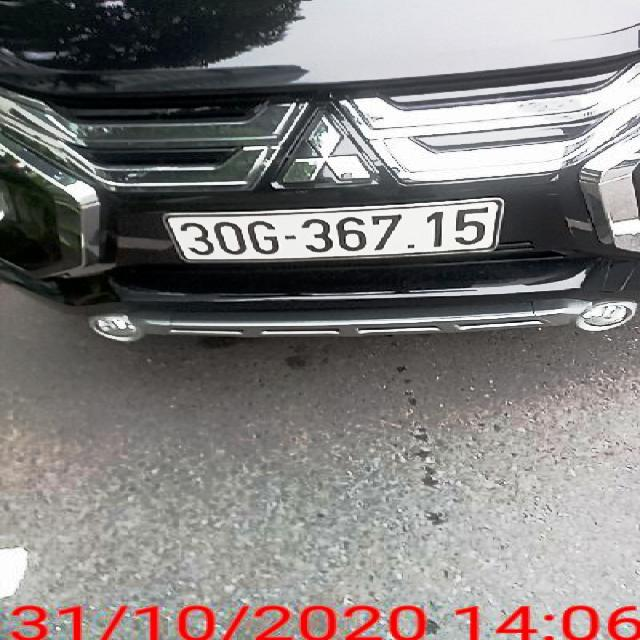license_plate: (167, 200, 503, 263)
